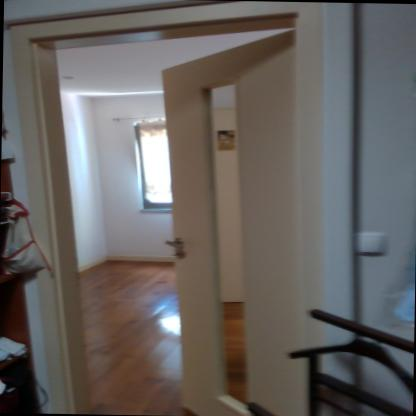semi: (2, 0, 352, 415)
